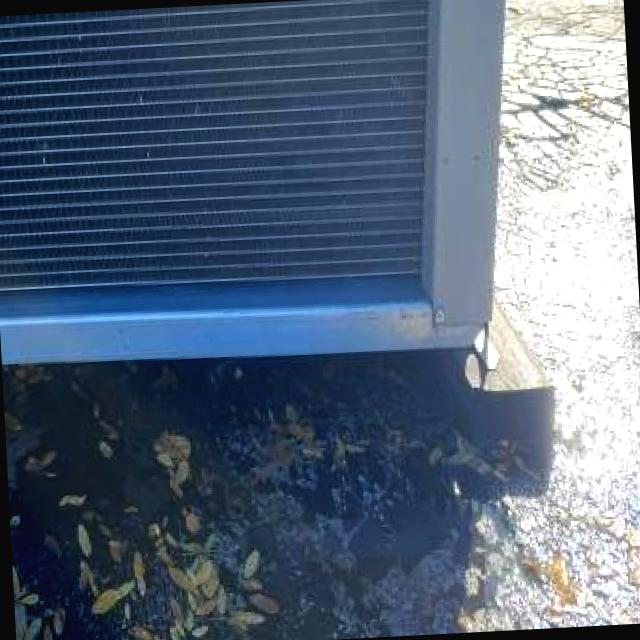SPLIT-SYSTEM: (0, 0, 567, 402)
